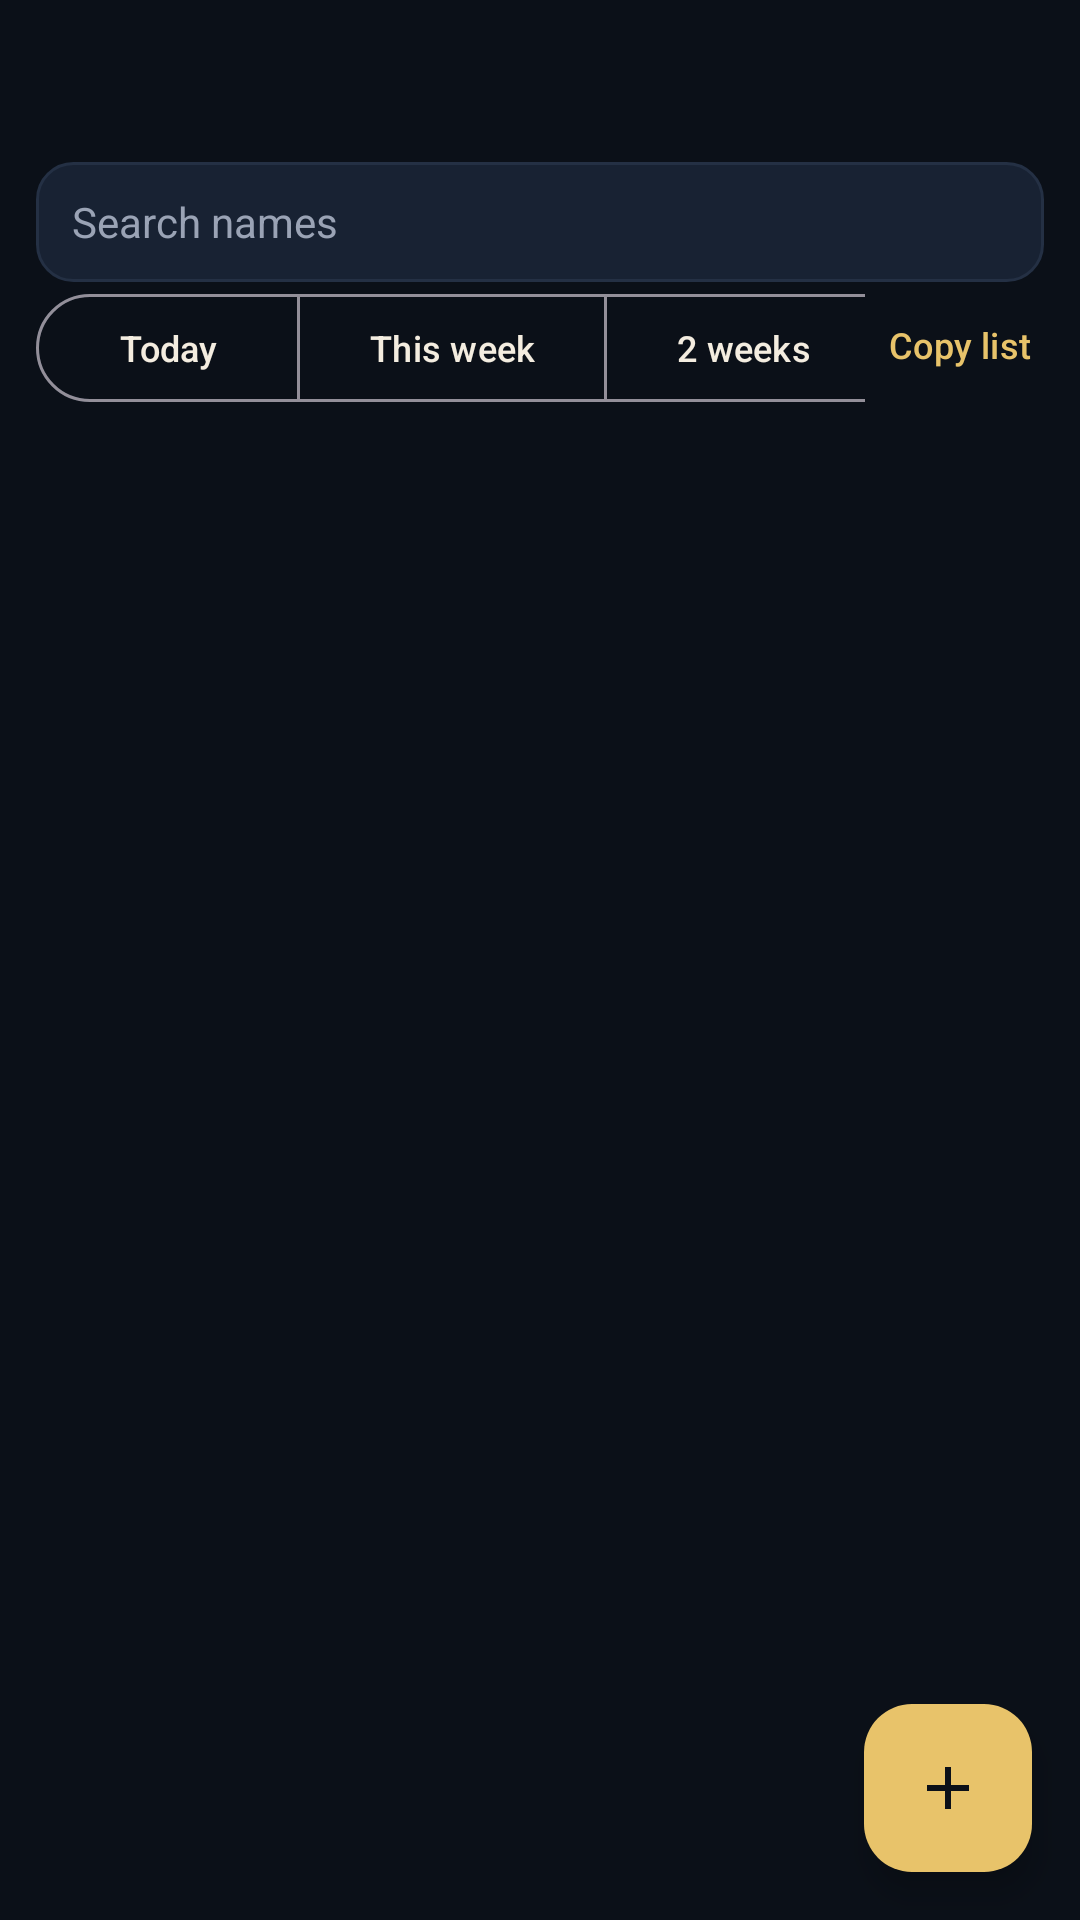

Named icons in this screenshot (1080x1920) and their centers, [x,y]:
Add member: [948,1788]
